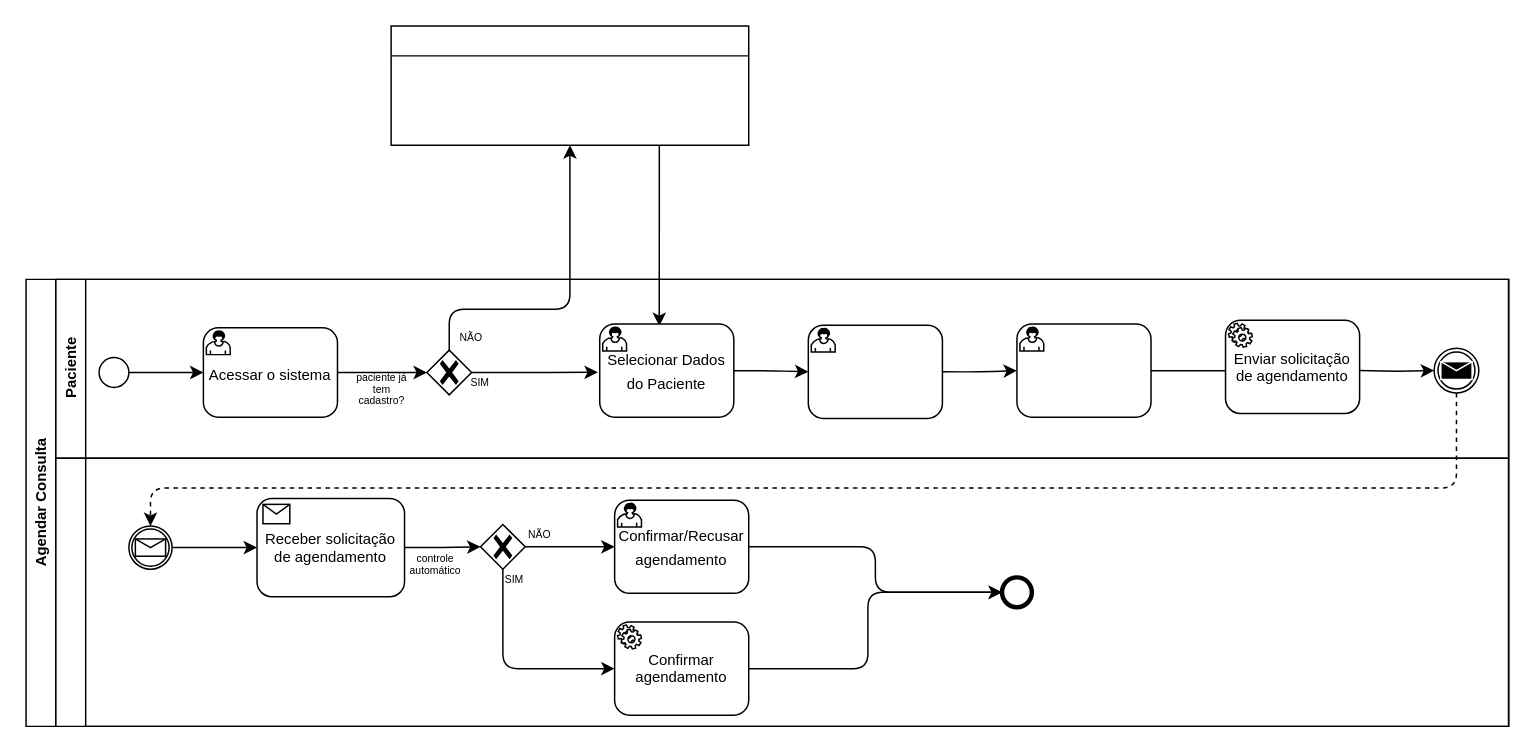
Some shapes in this 1535 by 752 pixel diagram are drawn without their labels. Each missing label, with the box of its shape:
Cadastrar Usuário: (390, 25, 749, 145)
Escolher data e horário: (1015, 323, 1151, 417)
Escolher Profissional: (807, 324, 942, 418)
Fisioterapeuta: (54, 457, 1509, 726)
